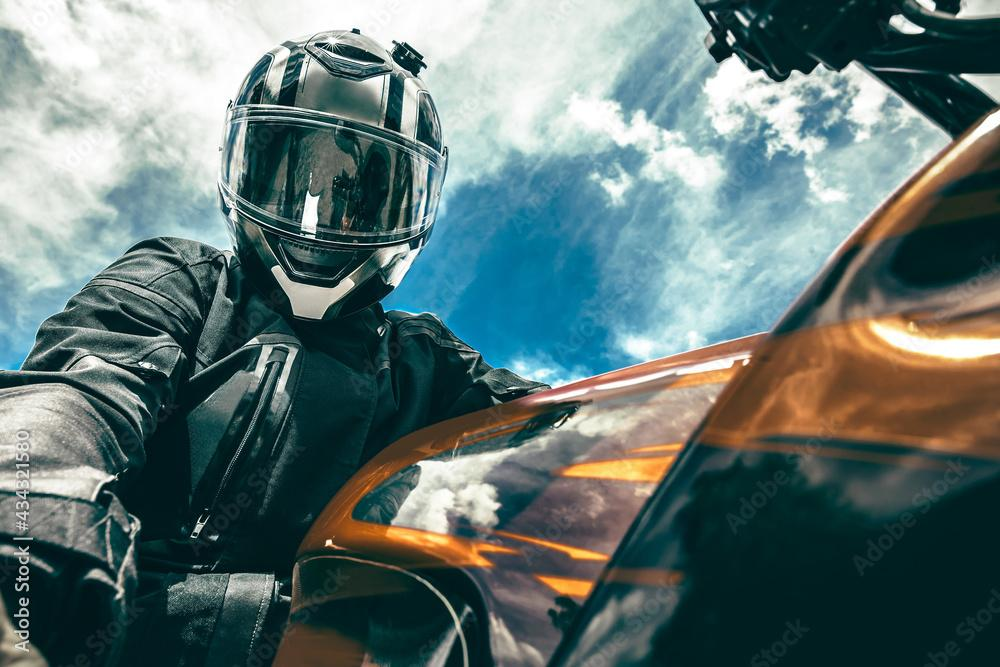helmet: (215, 26, 451, 325)
